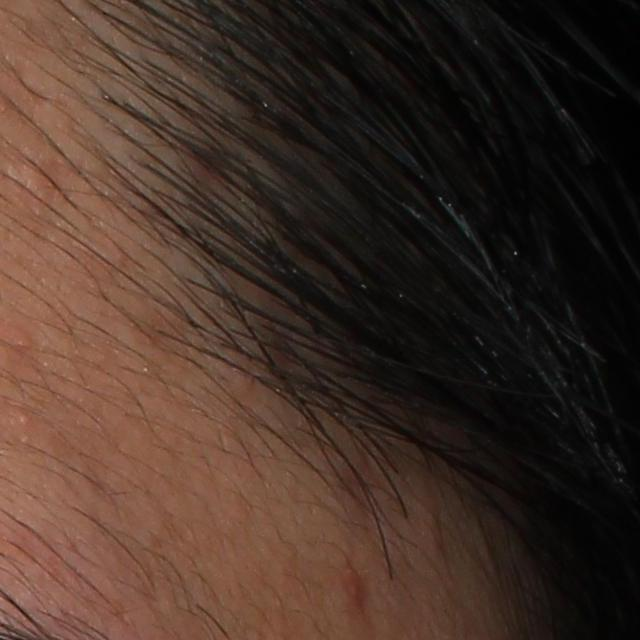comedo: (12, 406, 34, 430)
papule: (338, 563, 372, 606)
